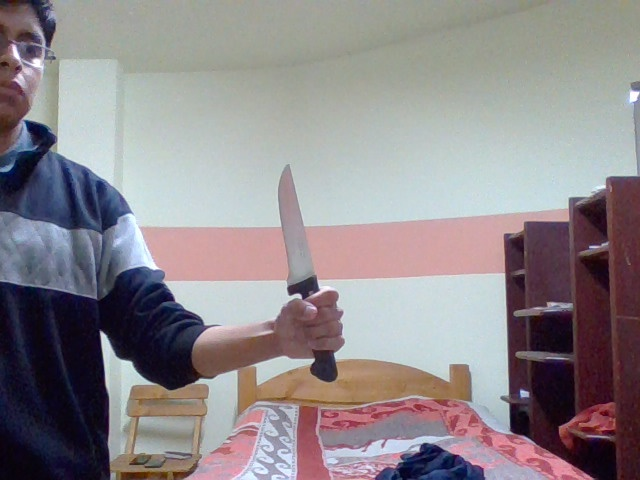cuchillo: (261, 161, 348, 391)
